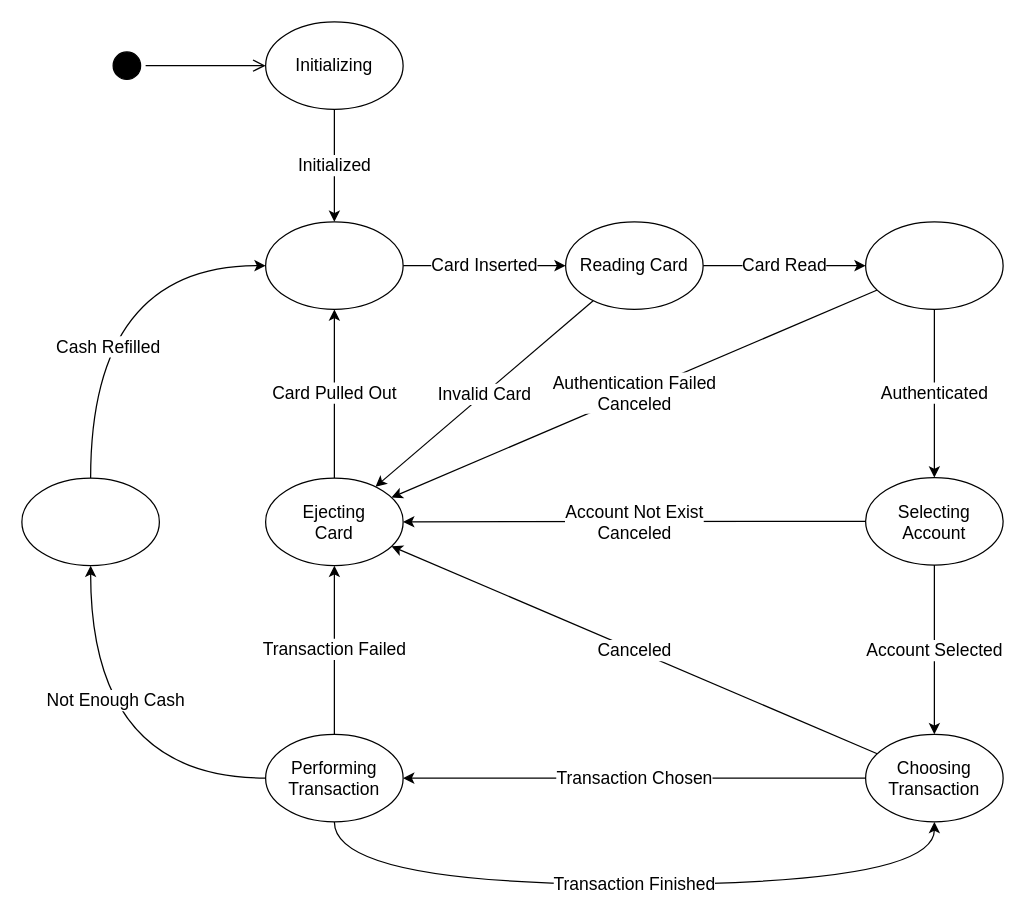
Image size: 1025x916. Some labels were removed from this diagram. Each missing label, with the centre of its shape:
Authenticate: point 933,265
Idle: point 333,265
Out of Cash: point 90,521
